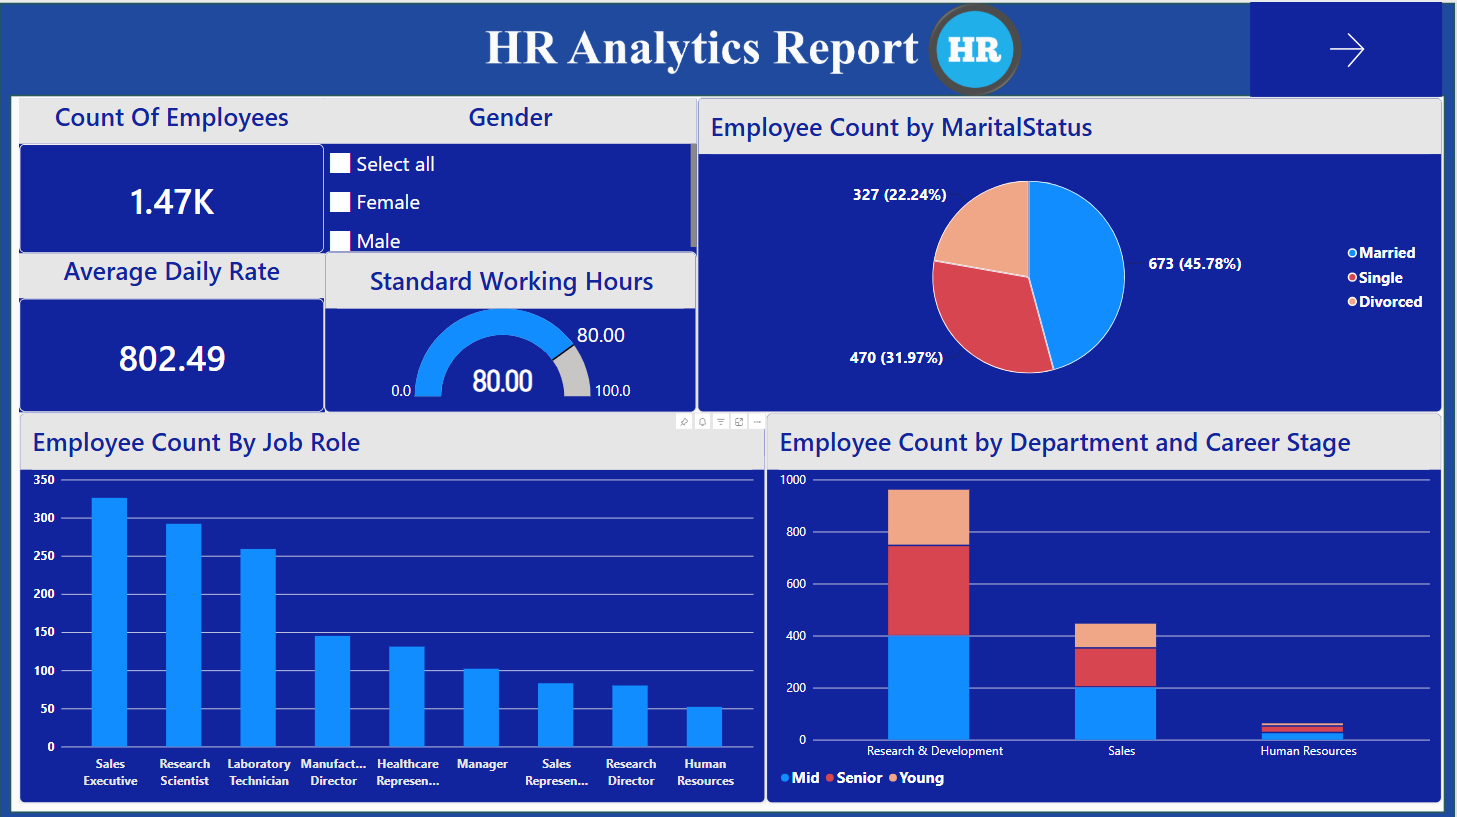

The page's visual inventory and layout, read from the dashboard file:
{"tool":"powerbi","page":{"name":"WorkForce Overview","canvas":[1920,1080],"ordinal":0},"visuals":[{"type":"cardVisual","title":"Count Of Employees","fields":{"Data":["HR Analytics Data.Employee Count"]},"box":[26,127.7,402.5,203.4],"z":0},{"type":"columnChart","title":"Employee Count By Job Role","fields":{"Category":["HR Analytics Data.JobRole"],"Y":["HR Analytics Data.Employee Count"]},"box":[26,541,984.7,515.1],"z":1000},{"type":"columnChart","title":"Employee Count by Department and Career Stage","fields":{"Category":["HR Analytics Data.Department"],"Series":["HR Analytics Data.Career Stage"],"Y":["HR Analytics Data.Employee Count"]},"box":[1010.7,541,891.6,515.1],"z":2000},{"type":"slicer","title":"Gender","fields":{"Values":["HR Analytics Data.Gender"]},"box":[428.5,127.7,491.3,207.8],"z":3000},{"type":"pieChart","fields":{"Category":["HR Analytics Data.MaritalStatus"],"Y":["HR Analytics Data.Employee Count"]},"box":[919.8,125.5,982.5,415.5],"z":4000},{"type":"cardVisual","title":"Average Daily Rate","fields":{"Data":["Avg(HR Analytics Data.DailyRate)"]},"box":[26,331.1,402.5,209.9],"z":5000},{"type":"gauge","title":"Standard Working Hours","fields":{"Y":["Avg(HR Analytics Data.StandardHours)"]},"box":[428.5,328.9,491.3,212.1],"z":6000},{"type":"actionButton","box":[1649.1,0,253.2,125.5],"z":7000}]}

Visuals, with their boxes in screenshot pixels (x1, y1, x2, y2), scaled from the page's 1920x1080 canvas onto the 1457x817 screenshot:
"Count Of Employees" cardVisual: x1=20, y1=97, x2=325, y2=250
"Employee Count By Job Role" columnChart: x1=20, y1=409, x2=767, y2=799
"Employee Count by Department and Career Stage" columnChart: x1=767, y1=409, x2=1444, y2=799
"Gender" slicer: x1=325, y1=97, x2=698, y2=254
pieChart - HR Analytics Data.MaritalStatus x HR Analytics Data.Employee Count: x1=698, y1=95, x2=1444, y2=409
"Average Daily Rate" cardVisual: x1=20, y1=250, x2=325, y2=409
"Standard Working Hours" gauge: x1=325, y1=249, x2=698, y2=409
actionButton: x1=1251, y1=0, x2=1444, y2=95
